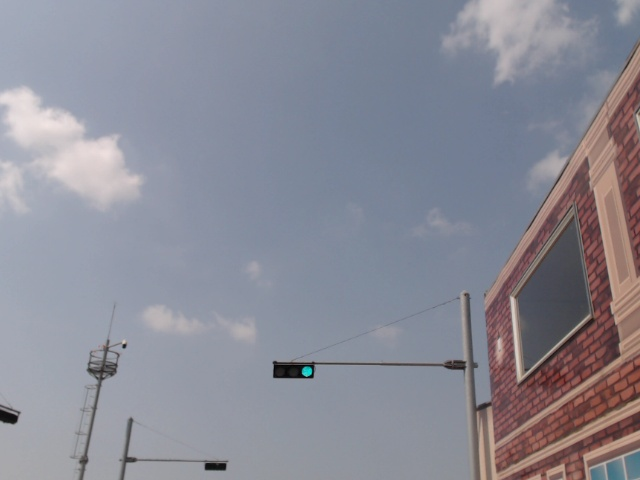green_3: (274, 364, 314, 379)
